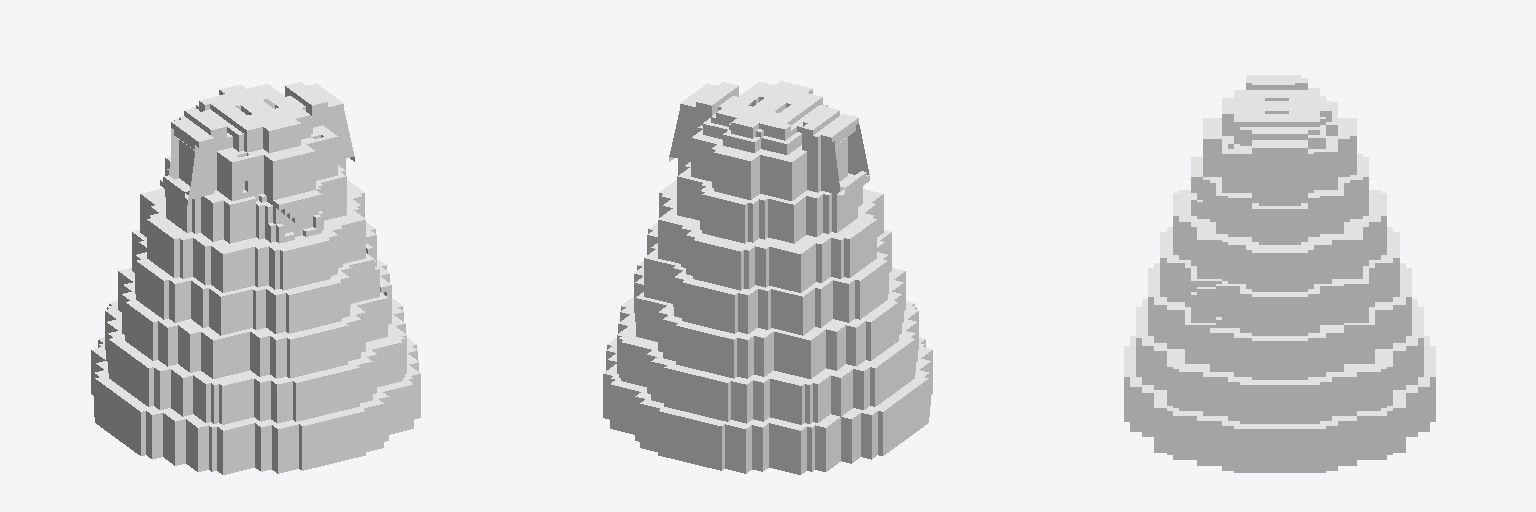
Rendered from CuerpoEdna.obj.
3 views of the same model, side by side, from view 1: azimuth 30°, elevation 25°; view 2: azimuth 150°, elevation 25°; view 3: azimuth 270°, elevation 25° (orthographic).
Visible parts, largest first — view 1: EdnaModaFINAL; view 2: EdnaModaFINAL; view 3: EdnaModaFINAL.
Boxes of the visible parts, x1=… form: EdnaModaFINAL: x1=91, y1=82, x2=420, y2=474; EdnaModaFINAL: x1=603, y1=81, x2=932, y2=474; EdnaModaFINAL: x1=1124, y1=75, x2=1435, y2=472.
Size of the model in its own units: 5.2 by 5.4 by 5.1.